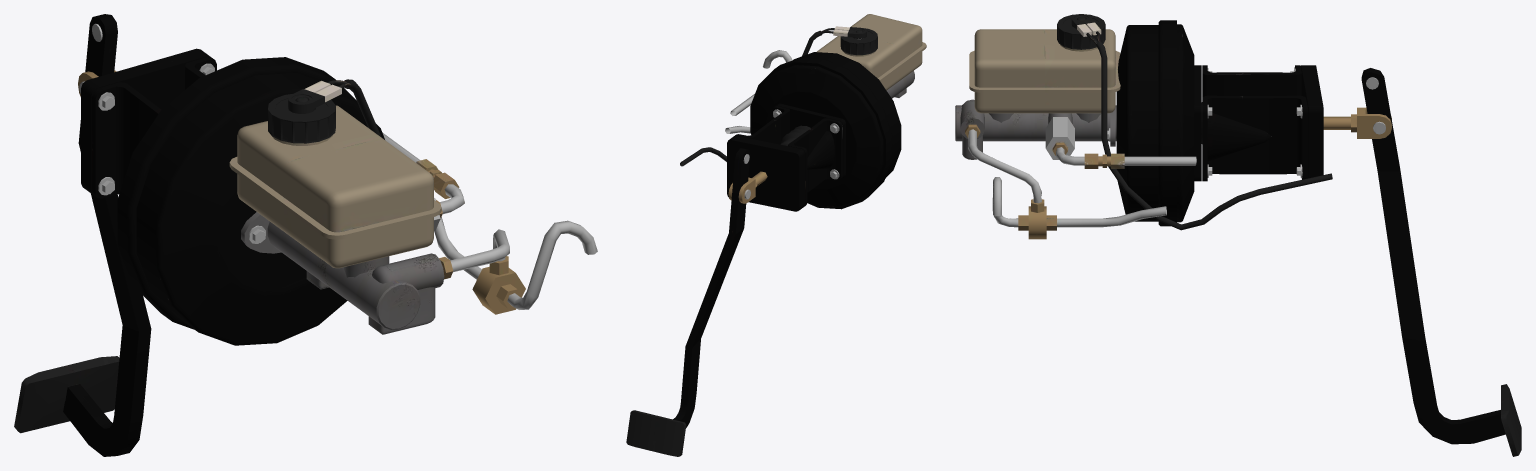
File: tcc_models-brake_booster.glb
3 renders of one model, left to right at view 1: azimuth 30°, elevation 25°; view 2: azimuth 150°, elevation 25°; view 3: azimuth 270°, elevation 25°, orthographic. The views are drawn at different scales.
Visible parts, largest first — view 1: hidrovacuo, reservatorio_freio, pedal_freio, cilindro_mestre, linhas_freio; view 2: hidrovacuo, pedal_freio, reservatorio_freio, linhas_freio, cilindro_mestre; view 3: hidrovacuo, reservatorio_freio, pedal_freio, linhas_freio, cilindro_mestre.
Boxes of the visible parts, x1,y1,x2,y2 form: hidrovacuo: [78, 48, 384, 345]; reservatorio_freio: [229, 79, 441, 268]; pedal_freio: [14, 14, 151, 456]; cilindro_mestre: [241, 198, 453, 334]; linhas_freio: [382, 132, 597, 314]; hidrovacuo: [727, 52, 901, 211]; pedal_freio: [626, 148, 750, 456]; reservatorio_freio: [680, 14, 926, 166]; linhas_freio: [725, 50, 792, 133]; cilindro_mestre: [886, 71, 914, 98]; hidrovacuo: [1116, 20, 1391, 226]; reservatorio_freio: [969, 14, 1332, 230]; pedal_freio: [1361, 68, 1521, 456]; linhas_freio: [968, 129, 1196, 239]; cilindro_mestre: [955, 99, 1116, 159].
Bounding box in the file's own units: 0.2446 × 0.376 × 0.4826.
2 materials, 2 textured.
